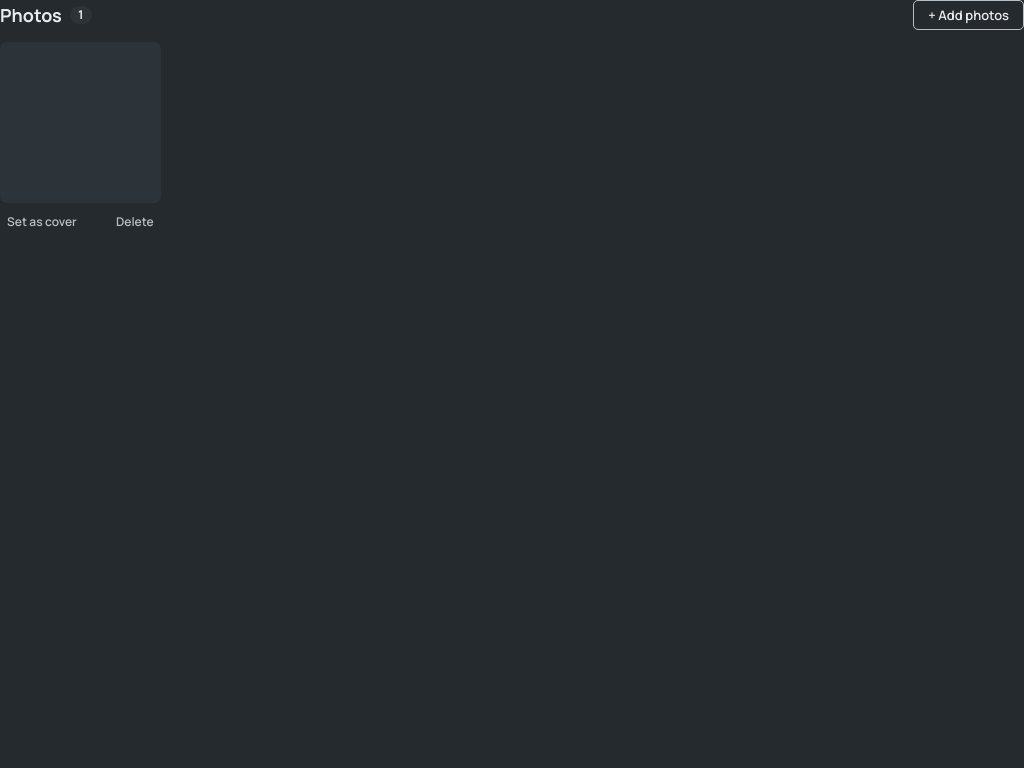
Test case: TripGallery › keeps the photo and shows an error when deletion fails
Click the button with aria-label "Delete photo 1": [135, 221] box top-left (109, 207), bottom-right (161, 236)
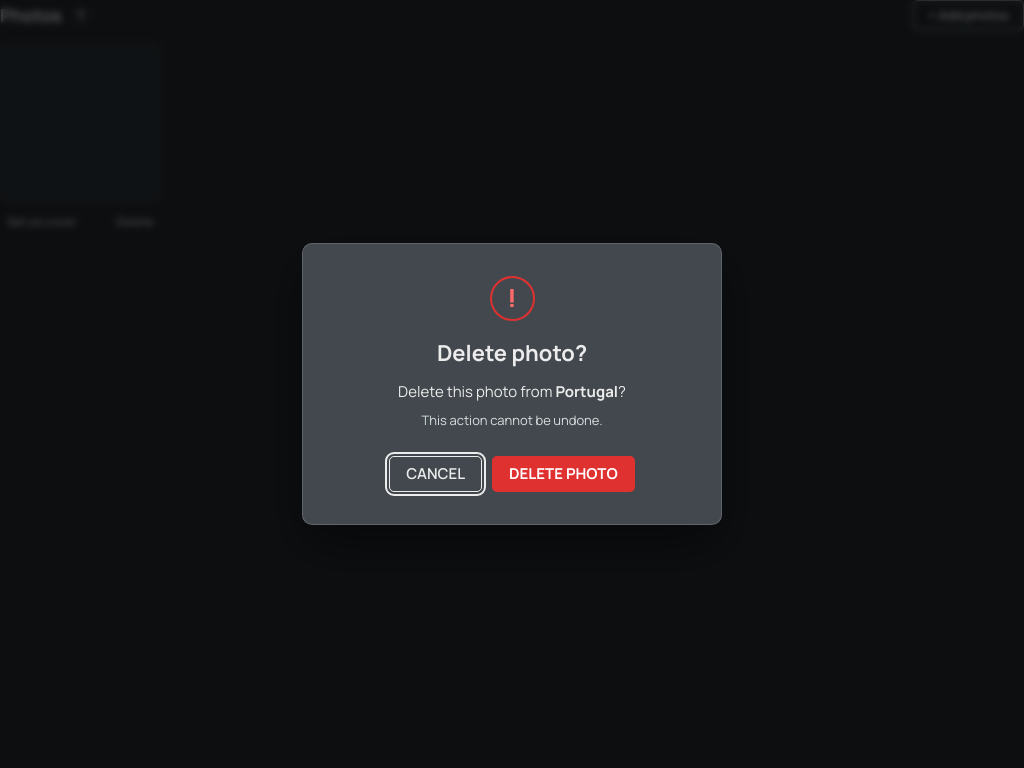
Click the button "Delete photo": [563, 474] box top-left (492, 456), bottom-right (635, 492)
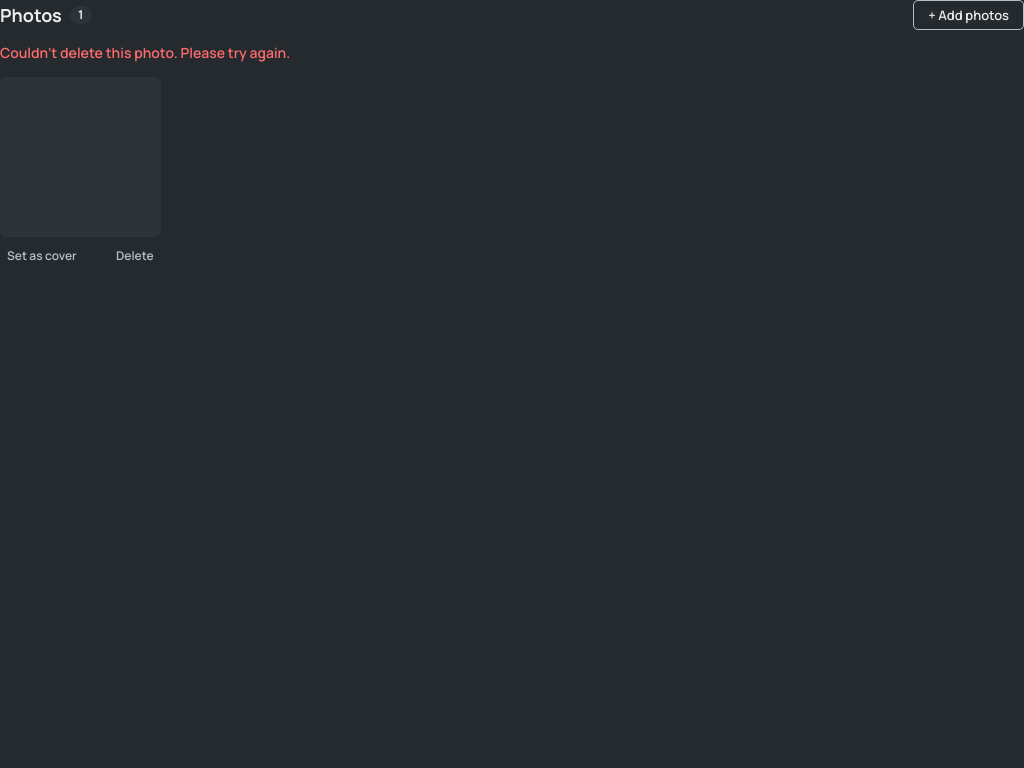
Check: the text "Couldn't delete this photo. Please try again." is shown, box top-left (0, 43), bottom-right (290, 62)
